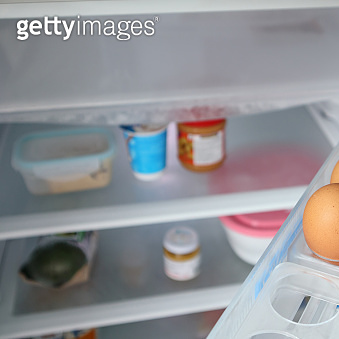egg: (301, 156, 339, 259)
